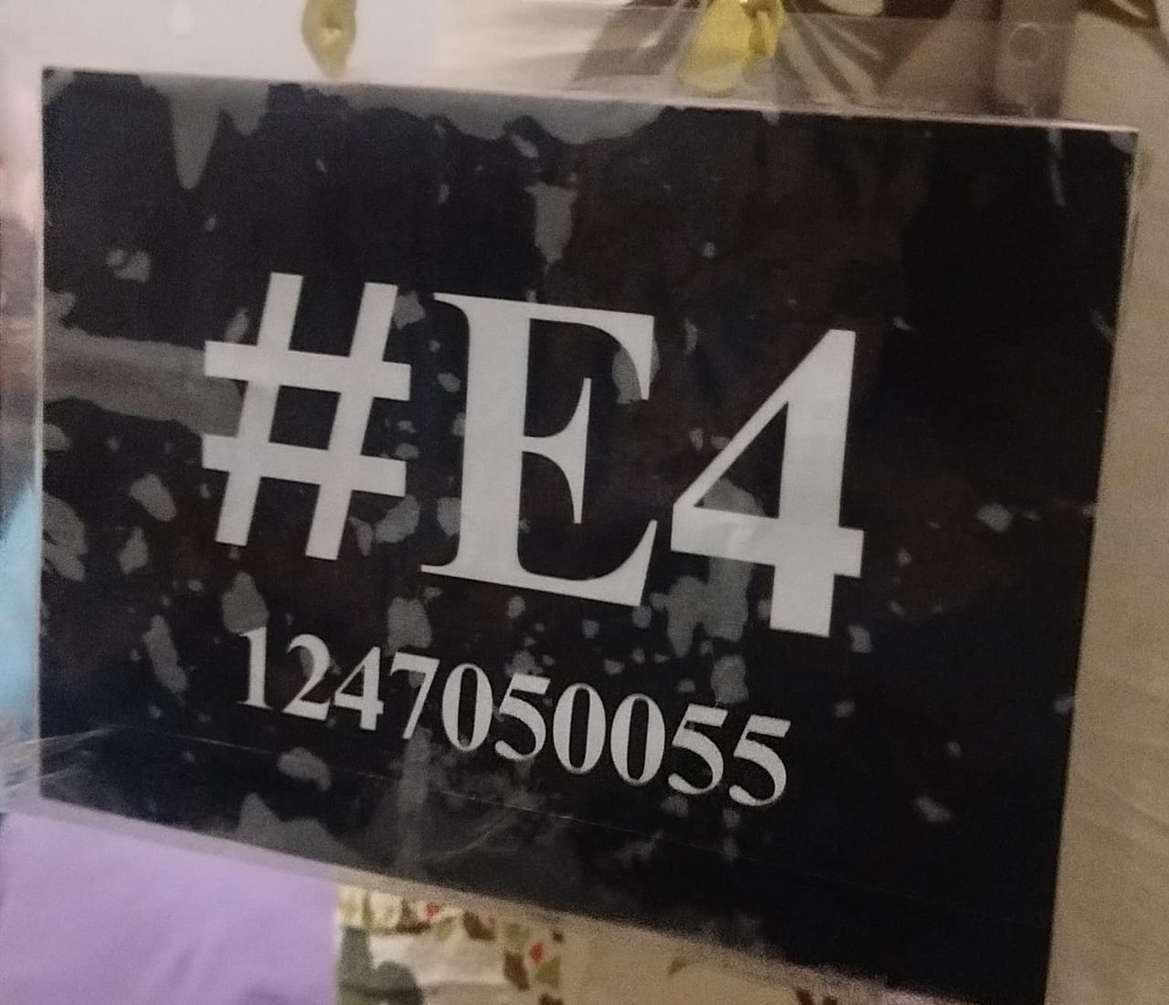nametag_ada: (40, 60, 1026, 895)
